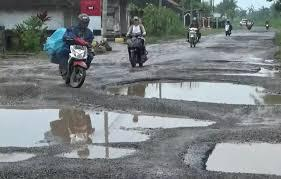Pothole: (0, 94, 212, 172), (96, 70, 281, 113), (204, 132, 281, 179), (0, 146, 43, 166), (198, 55, 238, 69), (200, 36, 237, 51)
